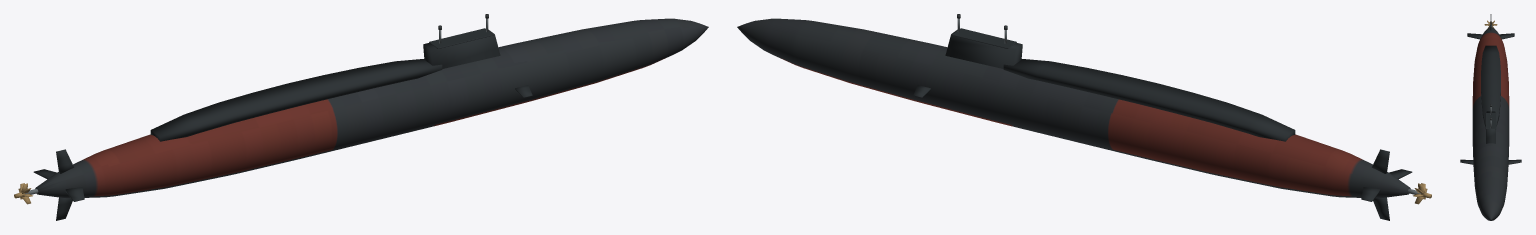
Rendered from RU_SSBN_Hotel_LOD1.fbx.
3 renders of one model, left to right at view 1: azimuth 30°, elevation 25°; view 2: azimuth 150°, elevation 25°; view 3: azimuth 270°, elevation 25°, orthographic. The views are drawn at different scales.
Parts seen in each view (by area): view 1: RU_SSBN_Hotel_LOD1; view 2: RU_SSBN_Hotel_LOD1; view 3: RU_SSBN_Hotel_LOD1.
Boxes of the visible parts, left/top/right/bottom form: RU_SSBN_Hotel_LOD1: left=14, top=14, right=708, bottom=220; RU_SSBN_Hotel_LOD1: left=737, top=14, right=1431, bottom=220; RU_SSBN_Hotel_LOD1: left=1460, top=14, right=1521, bottom=220.
Bounding box in the file's own units: 118 × 15.38 × 16.35.
Materials: 6 (1 with a texture image).
